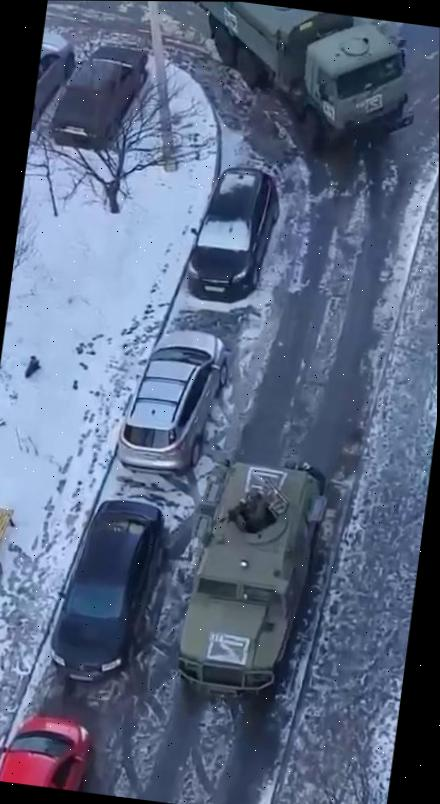armored_car: (168, 448, 333, 709)
car: (42, 491, 169, 697), (112, 322, 233, 484), (183, 161, 284, 306), (46, 33, 154, 154), (0, 708, 93, 792), (30, 29, 81, 139)
truck: (165, 1, 429, 159)
